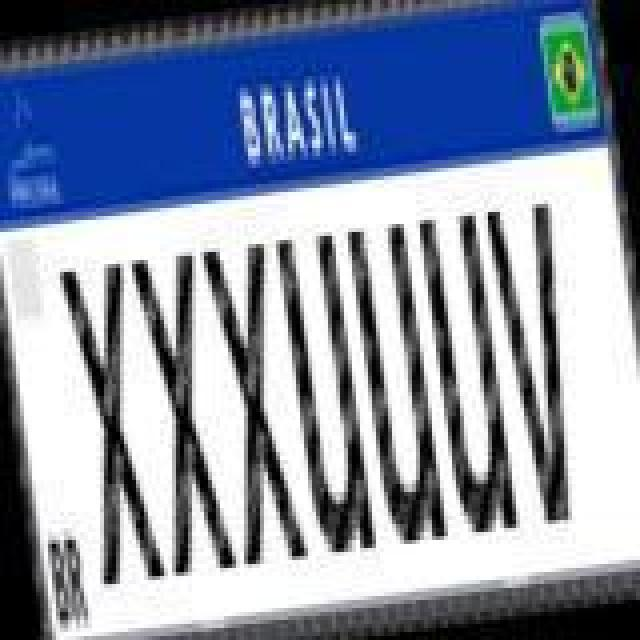U: (274, 224, 382, 560), (414, 208, 522, 544), (344, 216, 448, 552)
V: (484, 198, 596, 530)
X: (56, 256, 168, 592), (128, 248, 240, 584), (200, 236, 312, 572)
